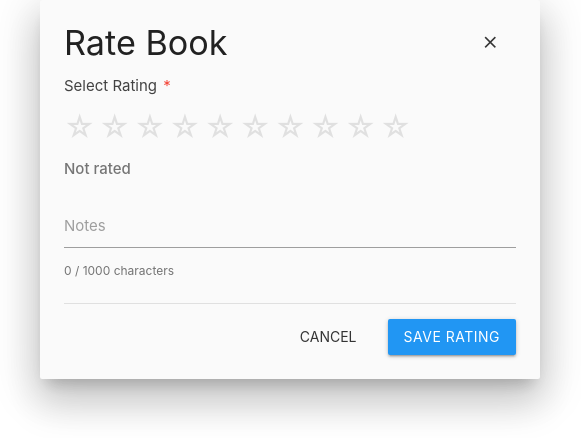
RateBookModal Component › should select stars when clicked
Click the button named "Rate 8 out of 10": coordinates (326, 128) [310,105,341,150]
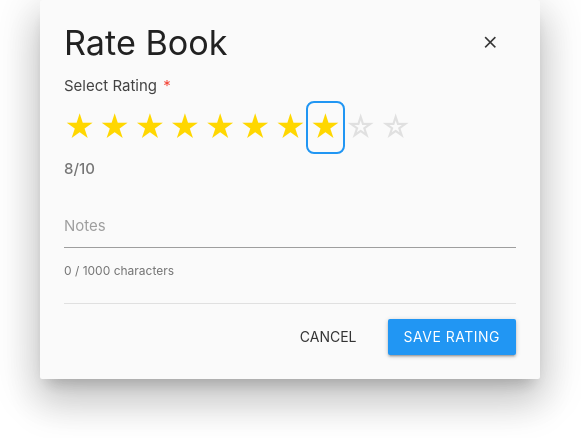
Expected: the 1st button "★" is shown, [64,105,95,150]
Expected: the 2nd button "★" is shown, [99,105,130,150]
Expected: the 3rd button "★" is shown, [134,105,166,150]
